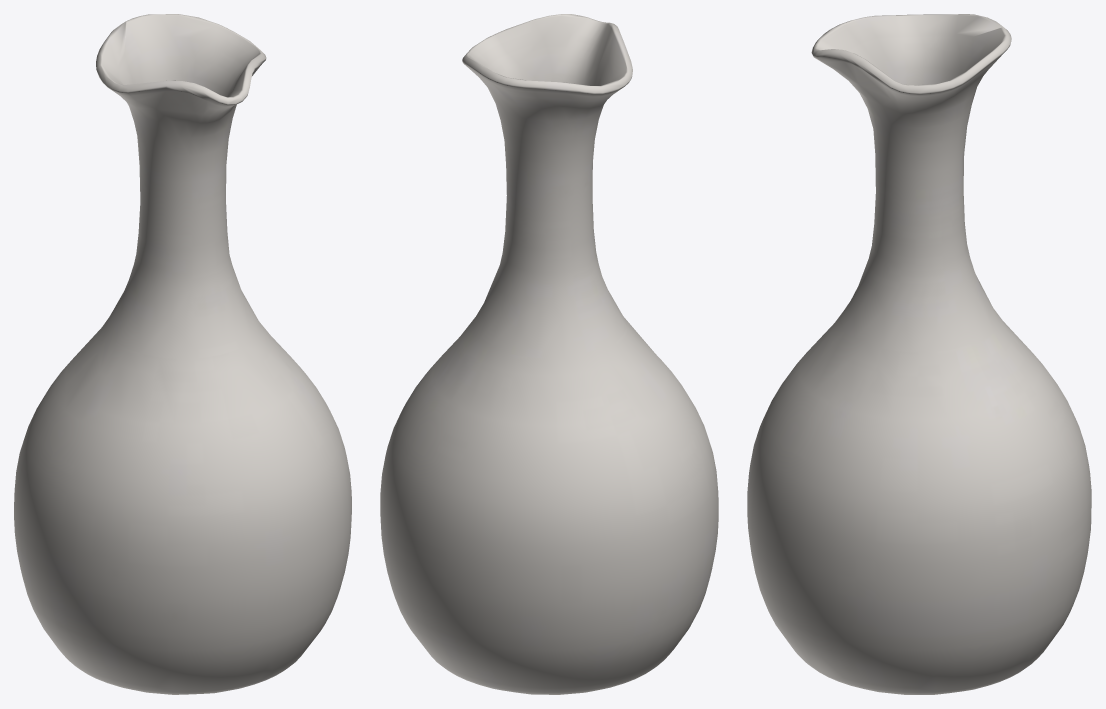
The model's file is ceramic_vase_01.glb.
The picture shows the model from 3 angles, left to right: view 1: azimuth 30°, elevation 25°; view 2: azimuth 150°, elevation 25°; view 3: azimuth 270°, elevation 25°; orthographic projection.
Visible parts, largest first — view 1: ceramic_vase_01; view 2: ceramic_vase_01; view 3: ceramic_vase_01.
Part boxes in pixels (left/top/right/bottom): ceramic_vase_01: left=14, top=14, right=351, bottom=694; ceramic_vase_01: left=380, top=14, right=718, bottom=694; ceramic_vase_01: left=747, top=14, right=1091, bottom=694.
Bounding box in the file's own units: 0.2036 × 0.4003 × 0.2035.
1 material, 1 textured.
